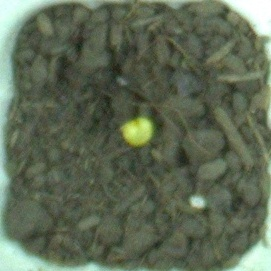pepper seed: (42, 44, 197, 191)
